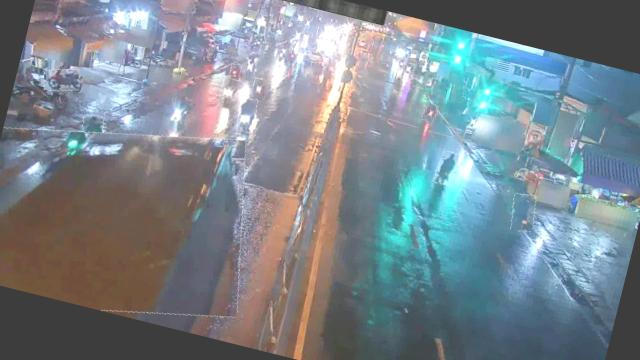Bike: (41, 63, 82, 96), (508, 192, 538, 234), (78, 113, 108, 150), (234, 97, 260, 134), (434, 150, 459, 187), (217, 78, 241, 111), (170, 97, 190, 127), (422, 102, 439, 124), (228, 64, 242, 81), (251, 78, 264, 96)
Truck: (0, 94, 268, 340)
